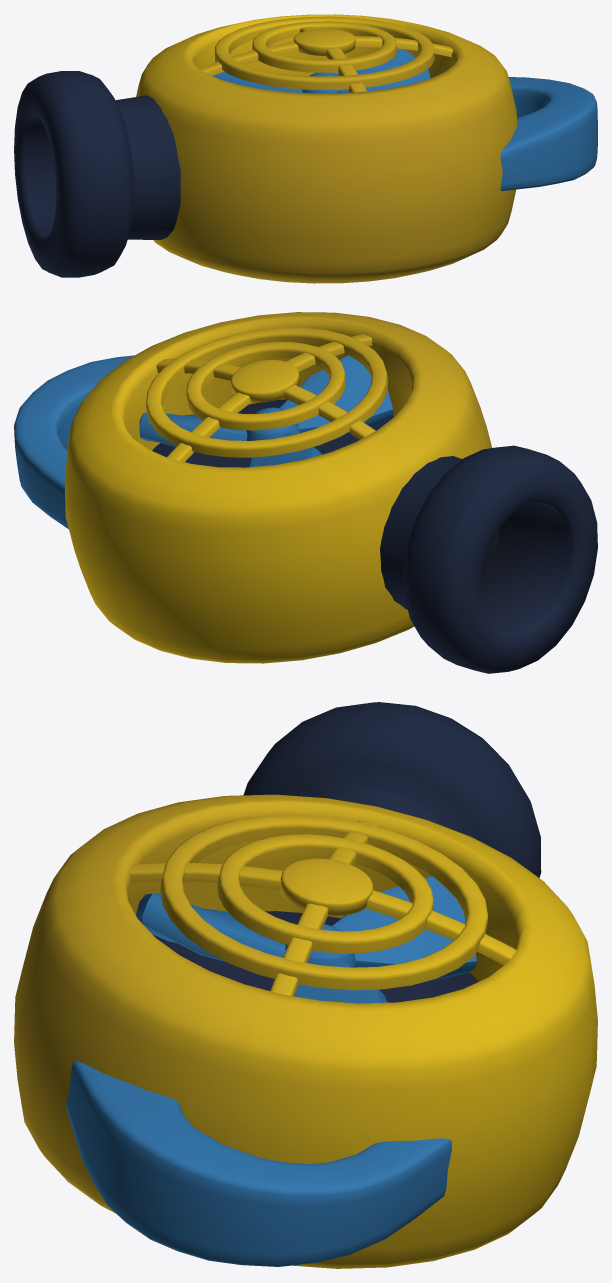
Rendered from WindBlower.fbx.
3 views of the same model, one above another, from view 1: azimuth 30°, elevation 25°; view 2: azimuth 150°, elevation 25°; view 3: azimuth 270°, elevation 25° (orthographic). The views are drawn at different scales.
Visible parts, largest first — view 1: WindBlower, Cylinder009; view 2: WindBlower, Cylinder009; view 3: WindBlower, Cylinder009.
Boxes of the visible parts, x1,y1,x2,y2 form: WindBlower: (14,14,597,283); Cylinder009: (212,48,430,93); WindBlower: (14,312,597,673); Cylinder009: (139,355,393,467); WindBlower: (14,702,597,1268); Cylinder009: (136,876,476,1003).
Size of the model in its own units: 17.49 by 7 by 11.5.
